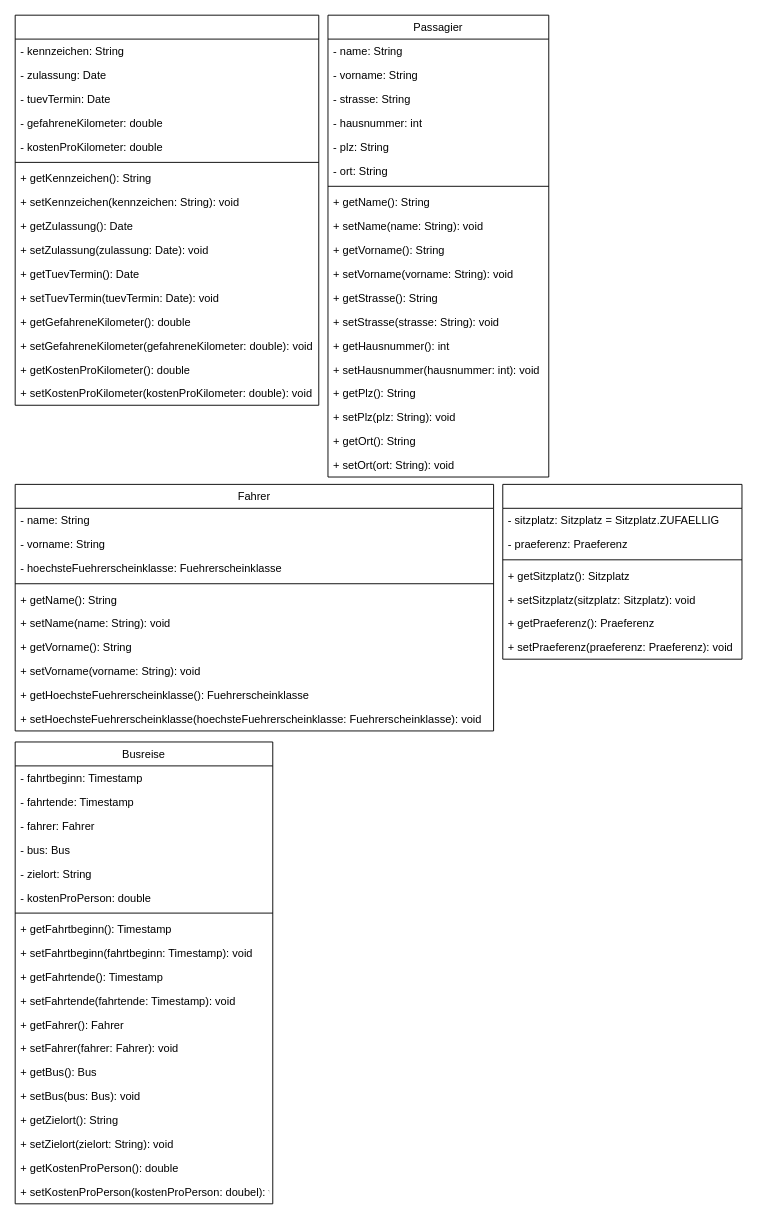
This 757x1219 diagram has some shape labels left out. The box of each missing label's shape, as (x1, y1, x2, y2) in pixels:
Buchung: (502, 483, 742, 659)
Bus: (14, 14, 319, 405)
